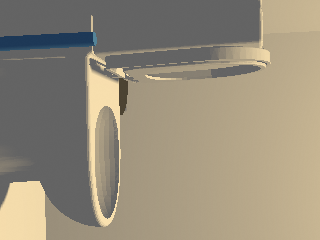lid_1: (105, 46, 270, 86)
